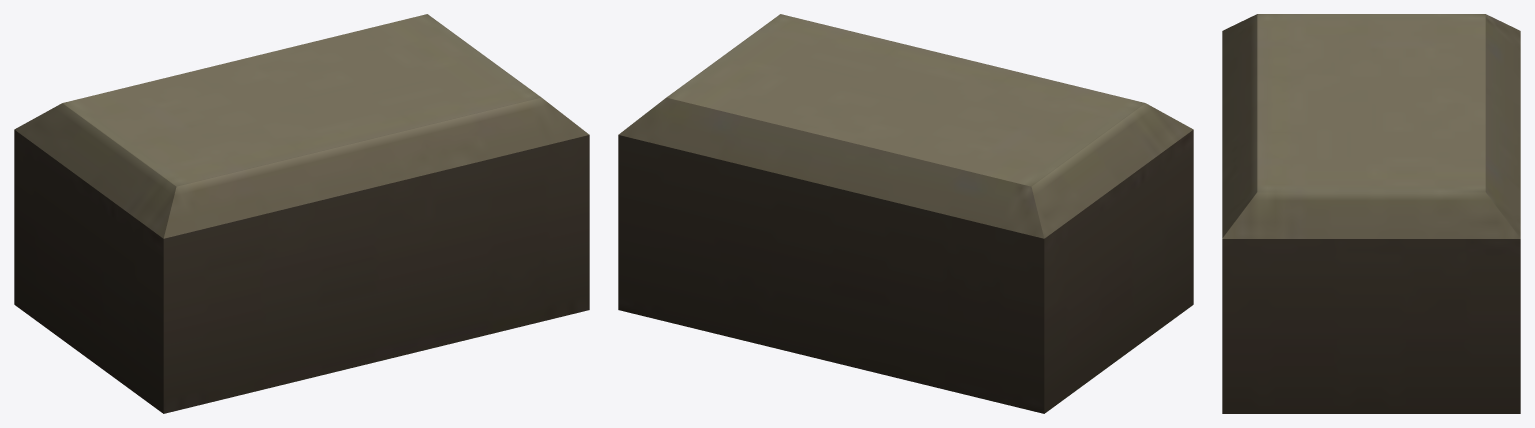
The model's file is steam-engine.glb.
3 views of the same model, side by side, from view 1: azimuth 30°, elevation 25°; view 2: azimuth 150°, elevation 25°; view 3: azimuth 270°, elevation 25° (orthographic).
Visible parts, largest first — view 1: steam-engine; view 2: steam-engine; view 3: steam-engine.
Part boxes in pixels (<box>): steam-engine: <box>14,14,589,413</box>; steam-engine: <box>618,14,1193,413</box>; steam-engine: <box>1222,14,1520,413</box>.
Bounding box in the file's own units: 0.28 × 0.13 × 0.17.
1 material, 1 textured.
